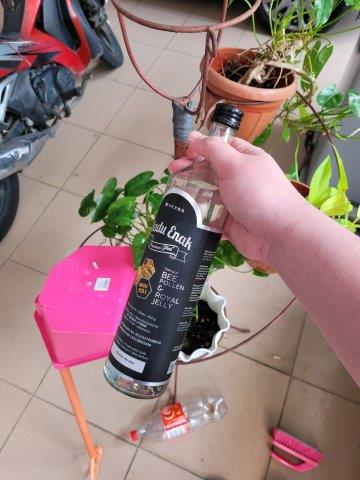botolkaca: (104, 102, 244, 403)
botolplastik: (131, 391, 230, 446)
